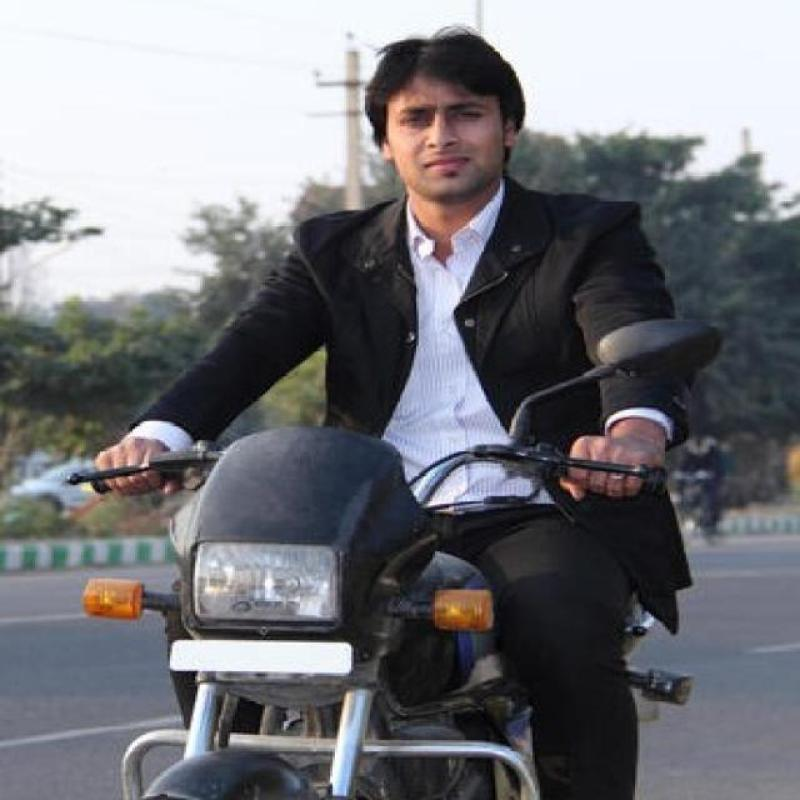nohelmet: (351, 24, 535, 204)
